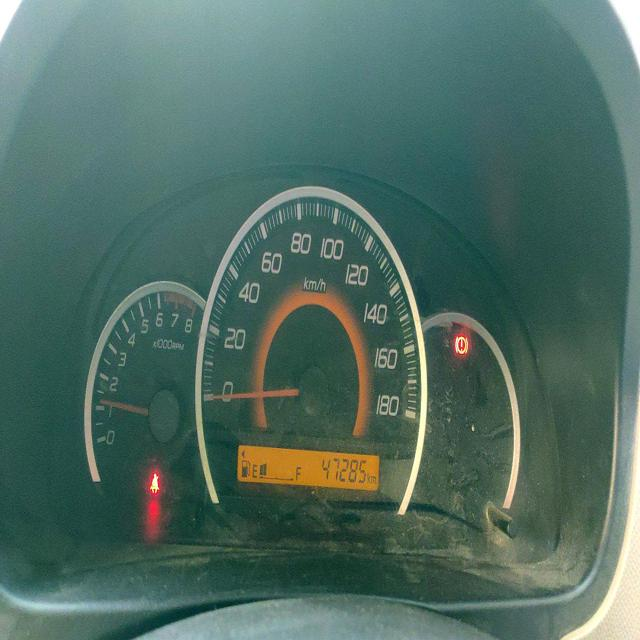odometer: (317, 453, 369, 487)
